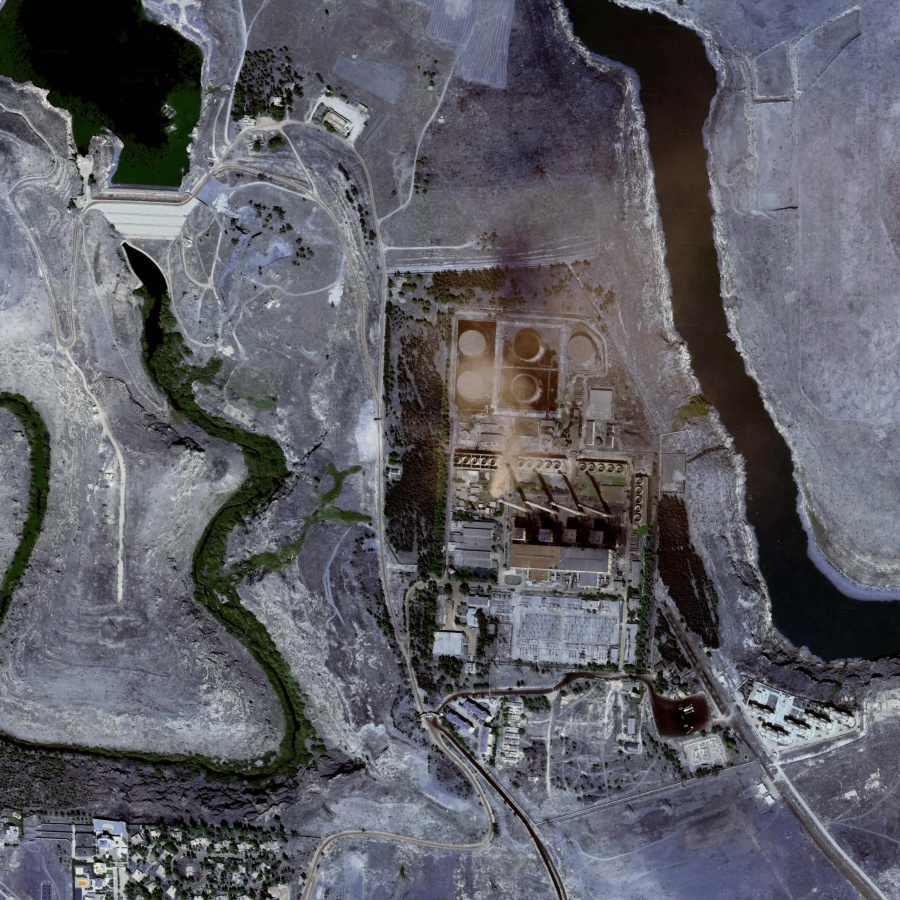PowerPlant: (394, 266, 772, 779)
